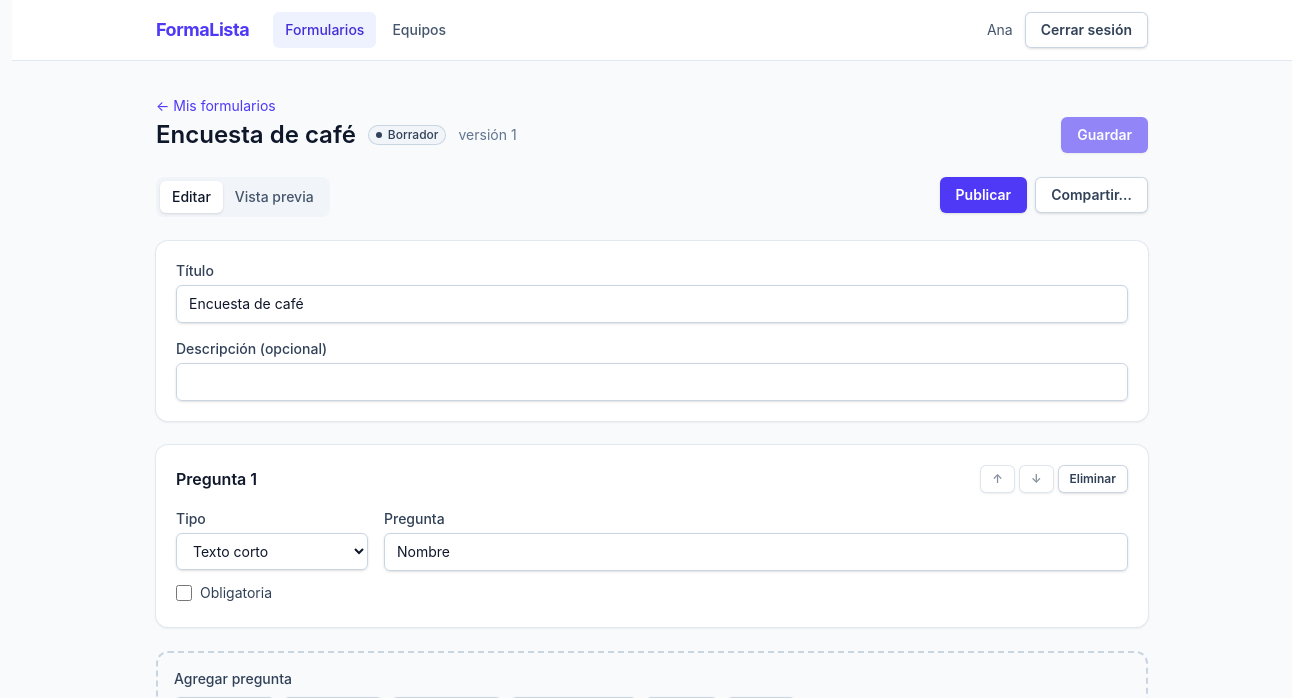
Test: Editor: validar y guardar › guarda con la versión y los ids, solo con los campos de cada tipo, y queda sin cambios
In the field labelled "Pregunta": (756, 552) [384,533,1128,571], type " completo"
(page scrolled)
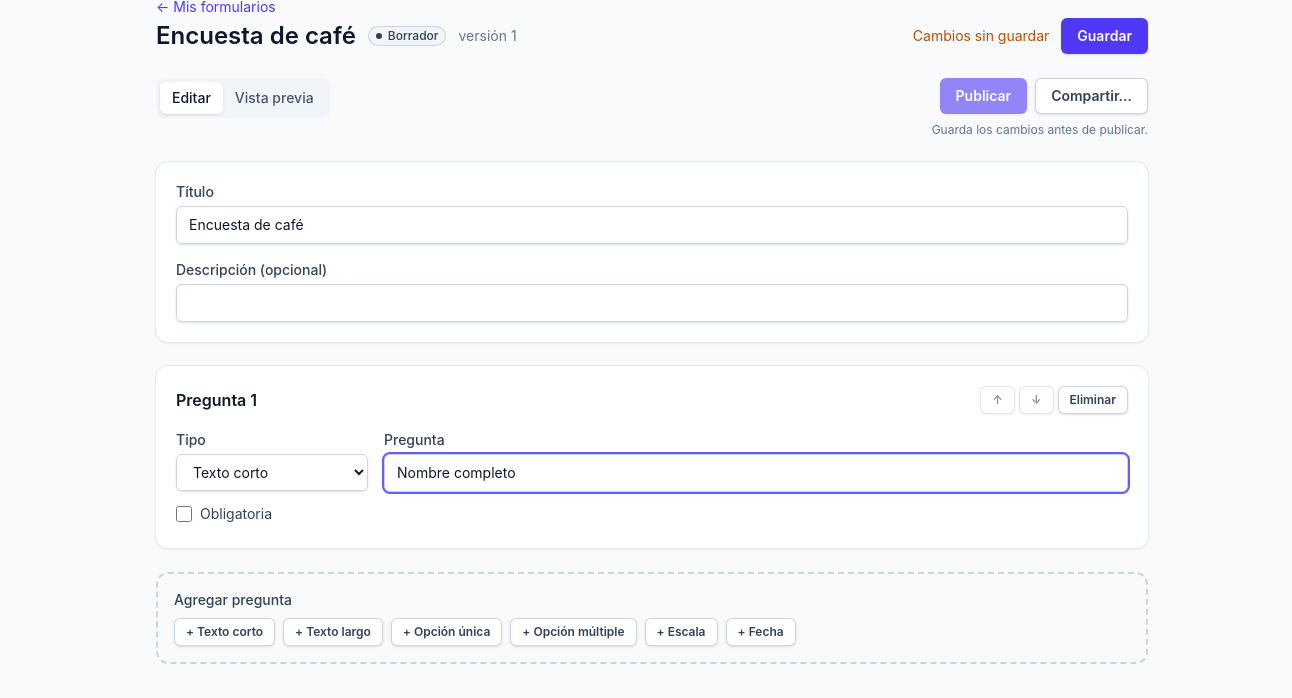
Click the button "+ Escala": (681, 632) [644,618,718,646]
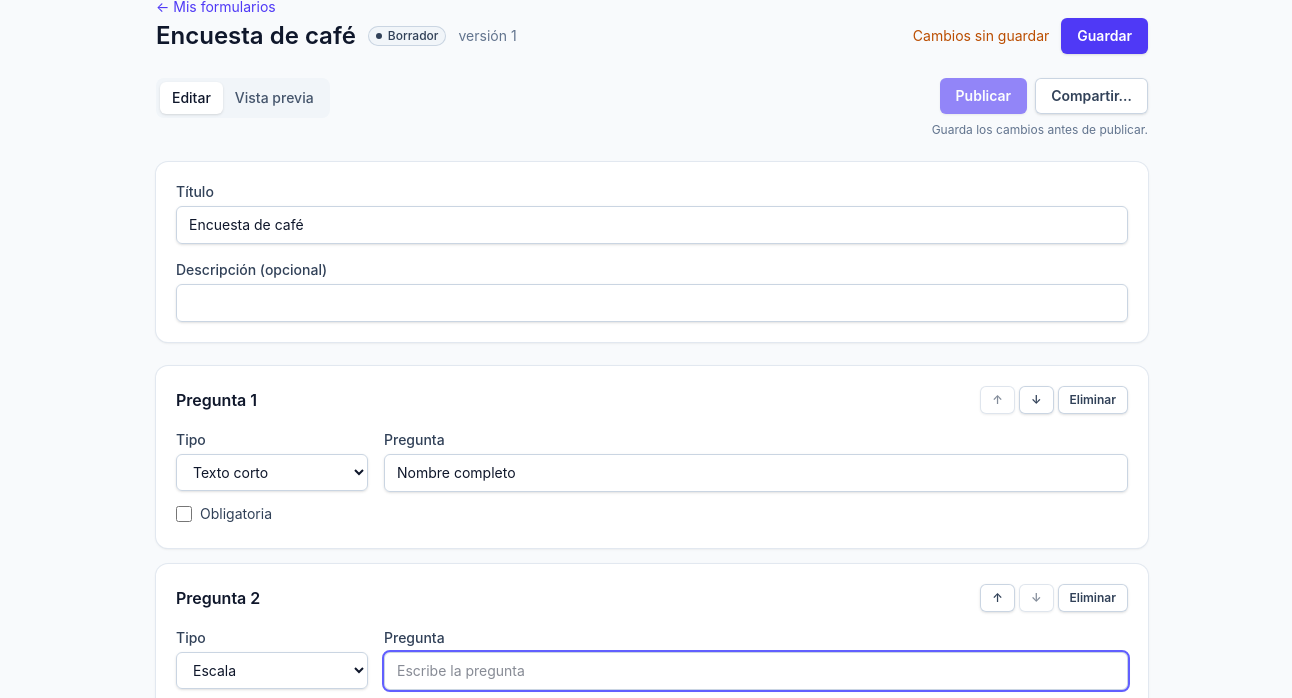
In the 2nd field labelled "Pregunta": (756, 671) [384,652,1128,690], type "Nota"
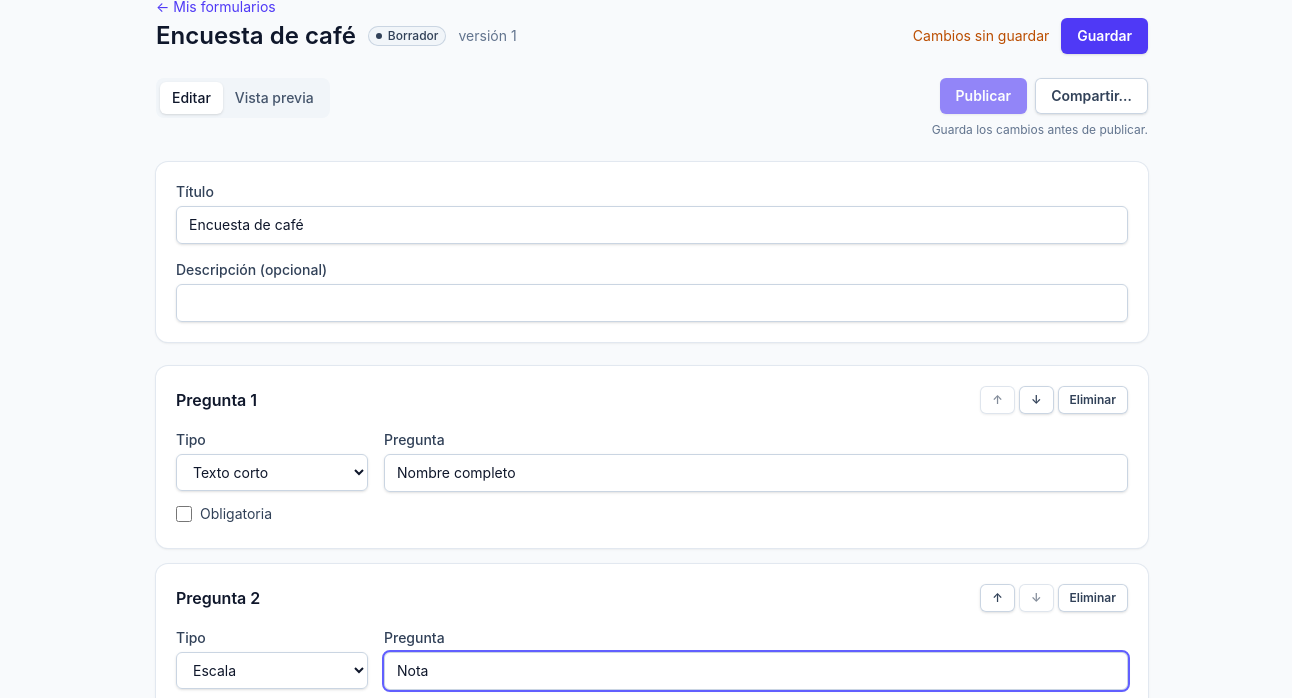
Click the button "Guardar": (1105, 36) [1061,18,1148,54]
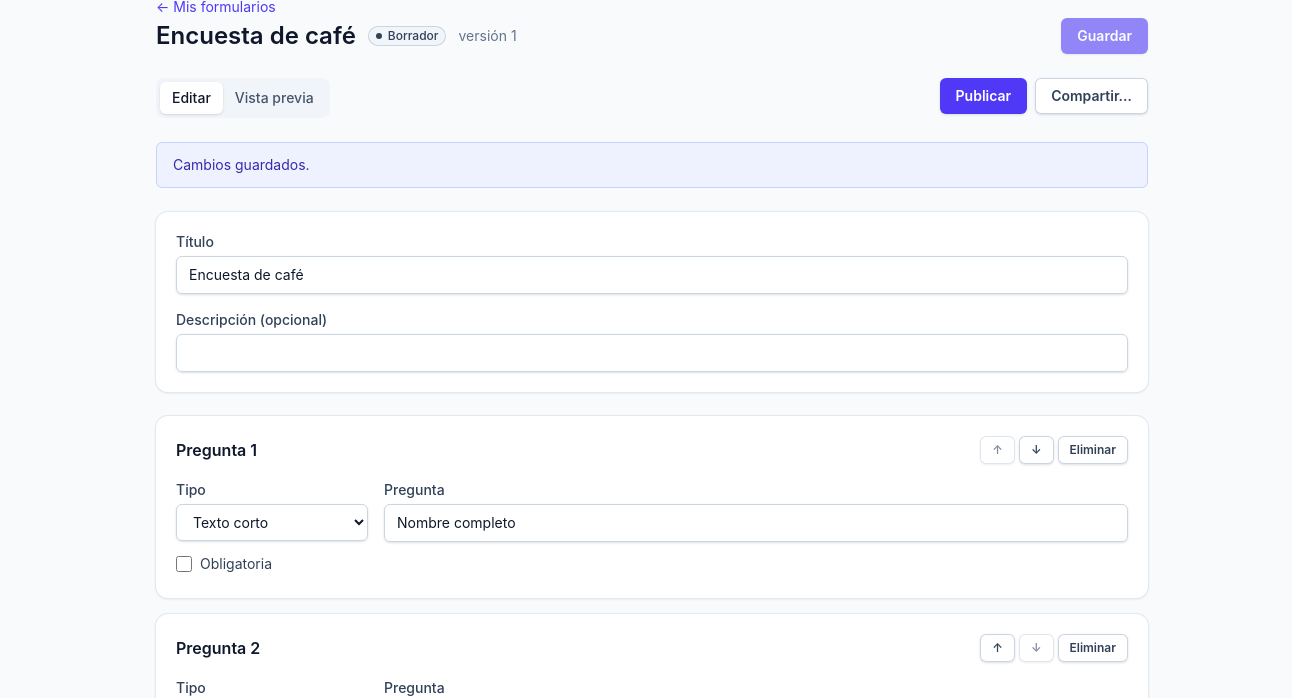
Result: the text "Cambios guardados." is shown at [156,142,1148,188]
Result: the text "Cambios sin guardar" is gone
Result: the button "Guardar" is disabled at [1061,18,1148,54]
